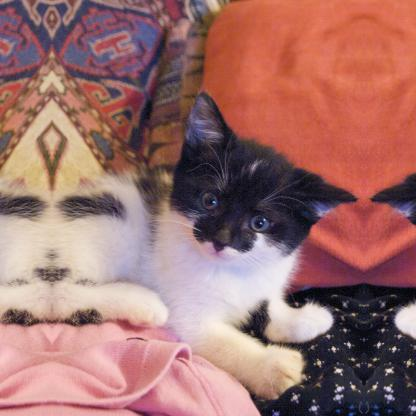Cat: (52, 88, 359, 402)
